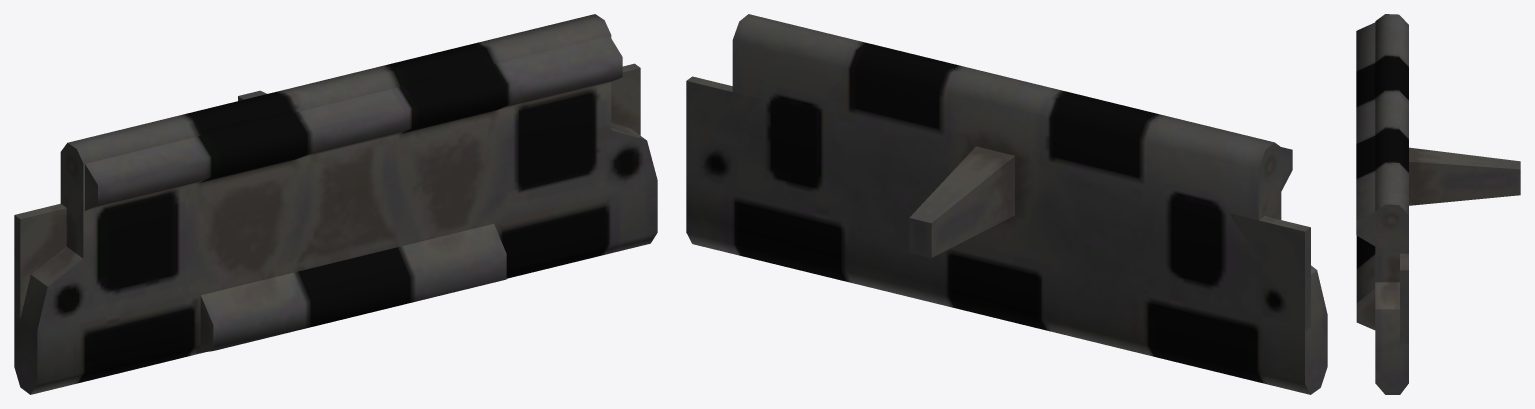
3 renders of one model, left to right at view 1: azimuth 30°, elevation 25°; view 2: azimuth 150°, elevation 25°; view 3: azimuth 270°, elevation 25°, orthographic. The views are drawn at different scales.
Parts seen in each view (by area): view 1: set_0_group_0; view 2: set_0_group_0; view 3: set_0_group_0.
Part boxes in pixels (x1=…): set_0_group_0: x1=14, y1=14, x2=657, y2=394; set_0_group_0: x1=686, y1=14, x2=1327, y2=394; set_0_group_0: x1=1356, y1=14, x2=1520, y2=394.
Size of the model in its own units: 0.44 by 0.1592 by 0.1365.
1 material, 1 textured.
